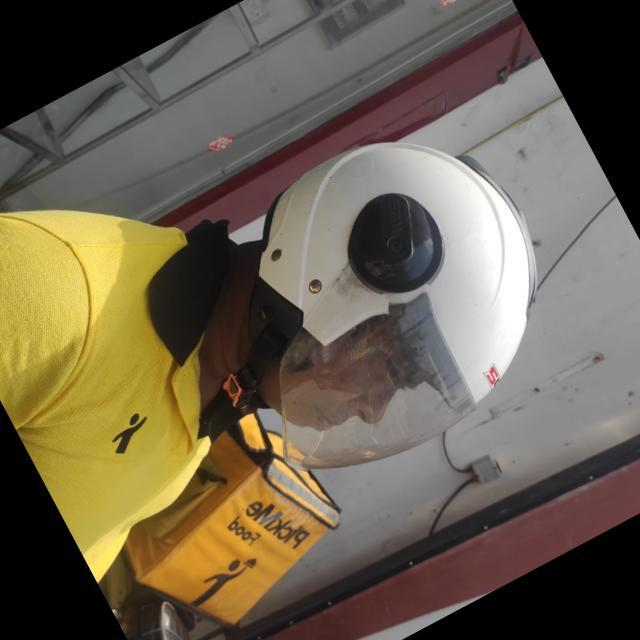WITH_HELMET: (166, 72, 596, 498)
